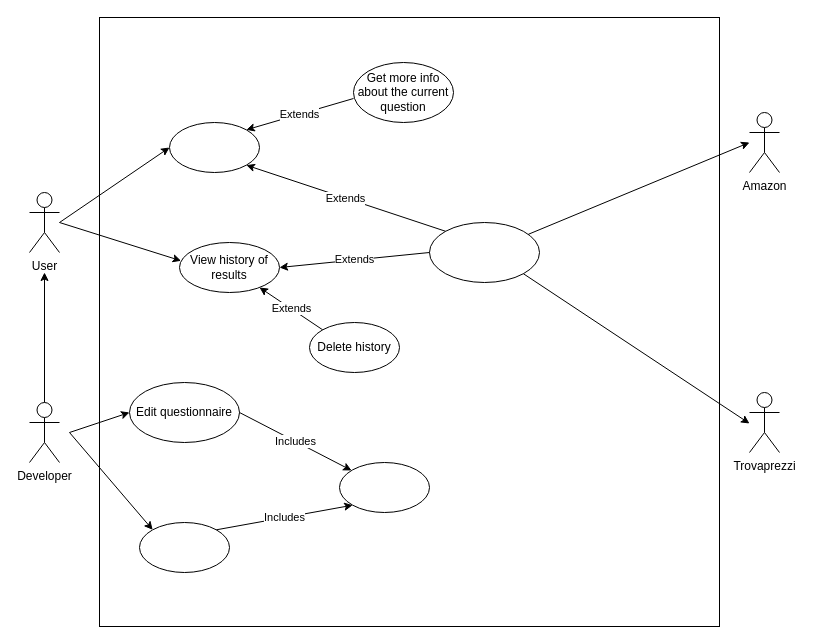
This 813x644 diagram has some shape labels left out. The centre of each missing label's shape, as x and y in pixels:
Edit device database: the point at 184,547
Log In: the point at 384,487
Search the device online: the point at 484,252
Take the questionnaire: the point at 214,147
